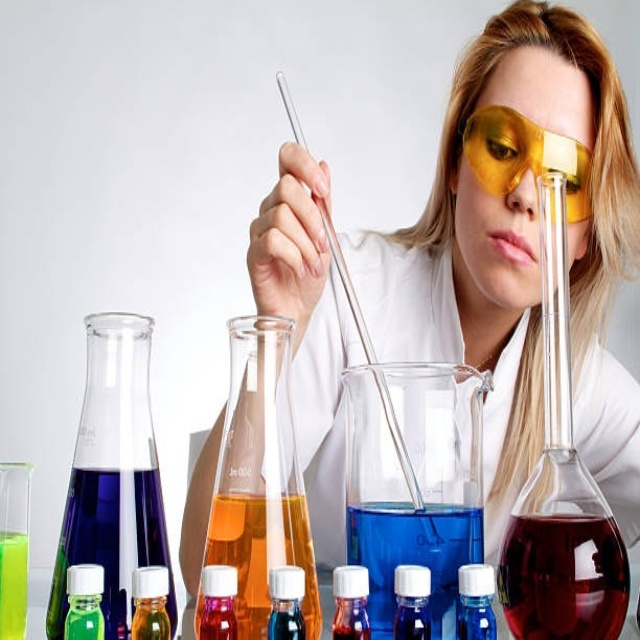Gafas: (460, 103, 594, 224)
Sin_guantes: (248, 137, 334, 330)
Sin_mascara: (478, 217, 540, 300)
